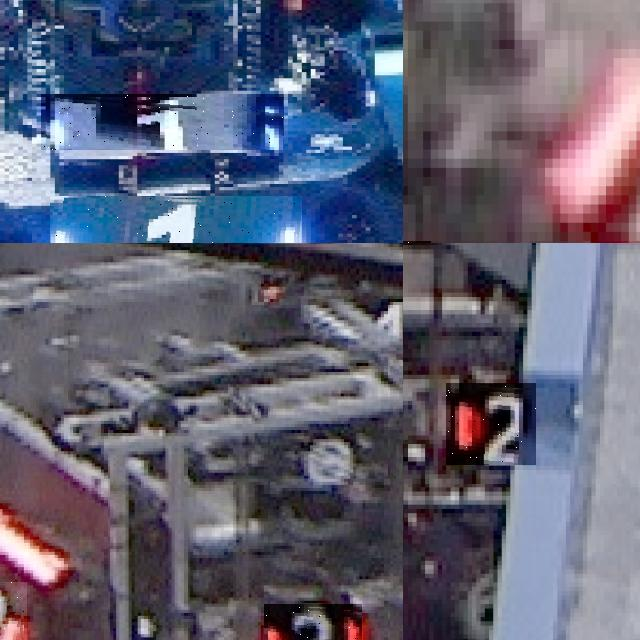B1: (41, 94, 284, 150), (50, 196, 301, 243)
R2: (446, 384, 536, 466), (263, 604, 362, 640), (0, 582, 27, 640)
